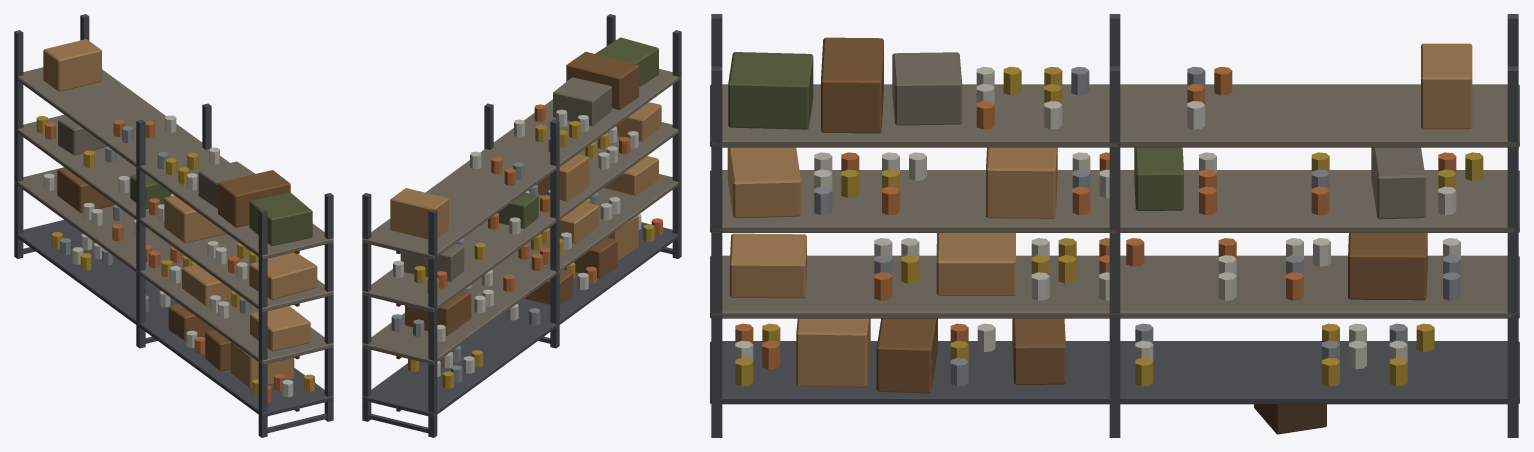
The model's file is lmk_bunker_shelf.fbx.
3 views of the same model, side by side, from view 1: azimuth 30°, elevation 25°; view 2: azimuth 150°, elevation 25°; view 3: azimuth 270°, elevation 25° (orthographic). The views are drawn at different scales.
Visible parts, largest first — view 1: lmk_bunker_shelf; view 2: lmk_bunker_shelf; view 3: lmk_bunker_shelf.
Part boxes in pixels (bbox=[...]): lmk_bunker_shelf: bbox=[14, 14, 333, 437]; lmk_bunker_shelf: bbox=[362, 14, 681, 437]; lmk_bunker_shelf: bbox=[710, 14, 1519, 437].
Bounding box in the file's own units: 1 × 3 × 6.
